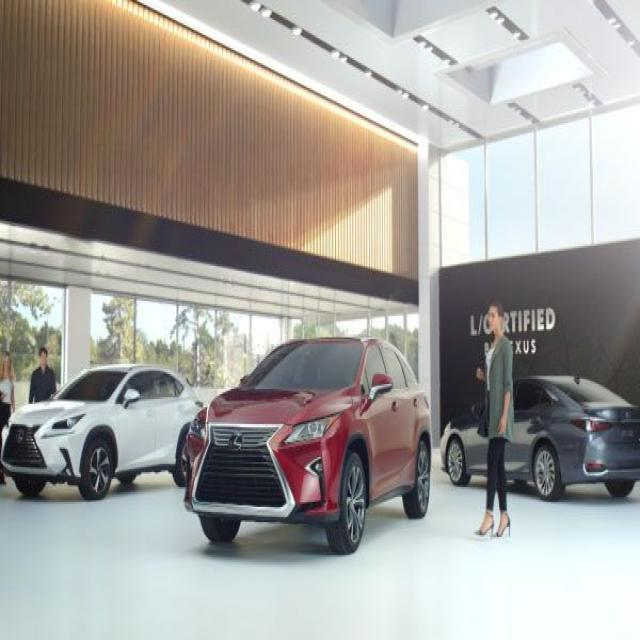Animation Frames: (182, 334, 432, 554), (0, 361, 204, 500), (439, 371, 639, 500)
Background Image: (1, 1, 638, 636)
Banner: (434, 235, 639, 442)
Mascot: (473, 297, 514, 537)
Testimonial Quotes: (468, 304, 556, 358)
Text Elements: (241, 0, 484, 141), (504, 306, 556, 332), (513, 336, 537, 356)
